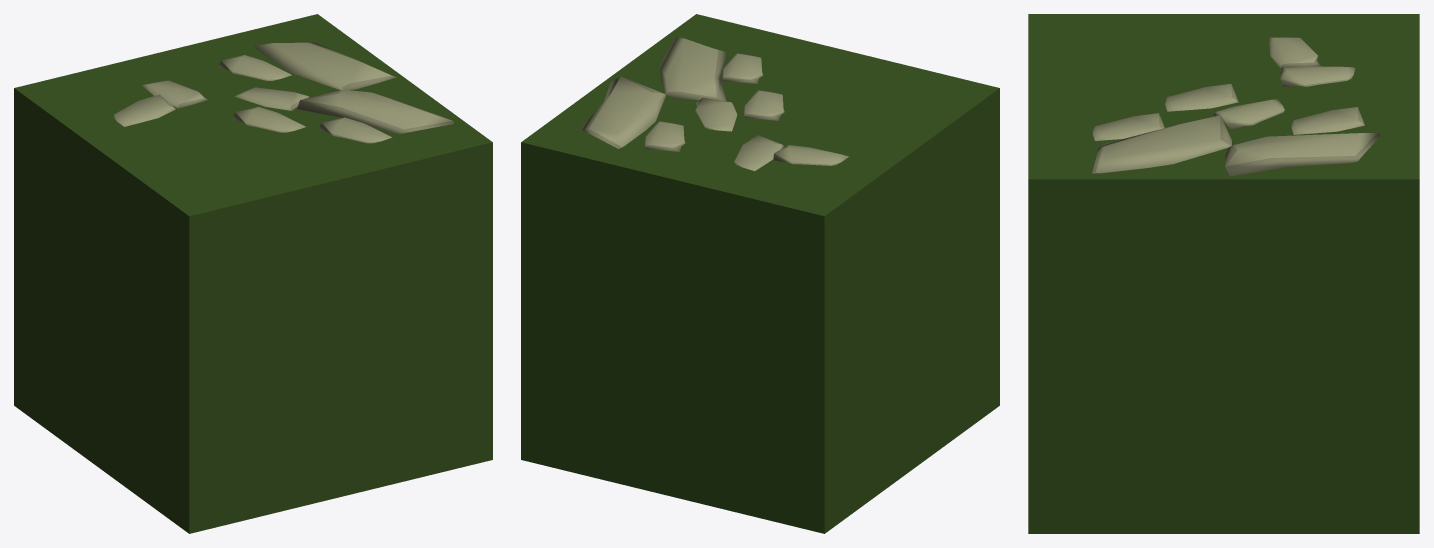
The model's file is E_Trail03.fbx.
The picture shows the model from 3 angles, left to right: view 1: azimuth 30°, elevation 25°; view 2: azimuth 150°, elevation 25°; view 3: azimuth 270°, elevation 25°; orthographic projection. The views are drawn at different scales.
Parts seen in each view (by area): view 1: E_Trail03; view 2: E_Trail03; view 3: E_Trail03.
Boxes of the visible parts, x1=… form: E_Trail03: x1=14, y1=14, x2=492, y2=533; E_Trail03: x1=521, y1=14, x2=999, y2=533; E_Trail03: x1=1028, y1=14, x2=1419, y2=533.
Bounding box in the file's own units: 100 × 102 × 100.
